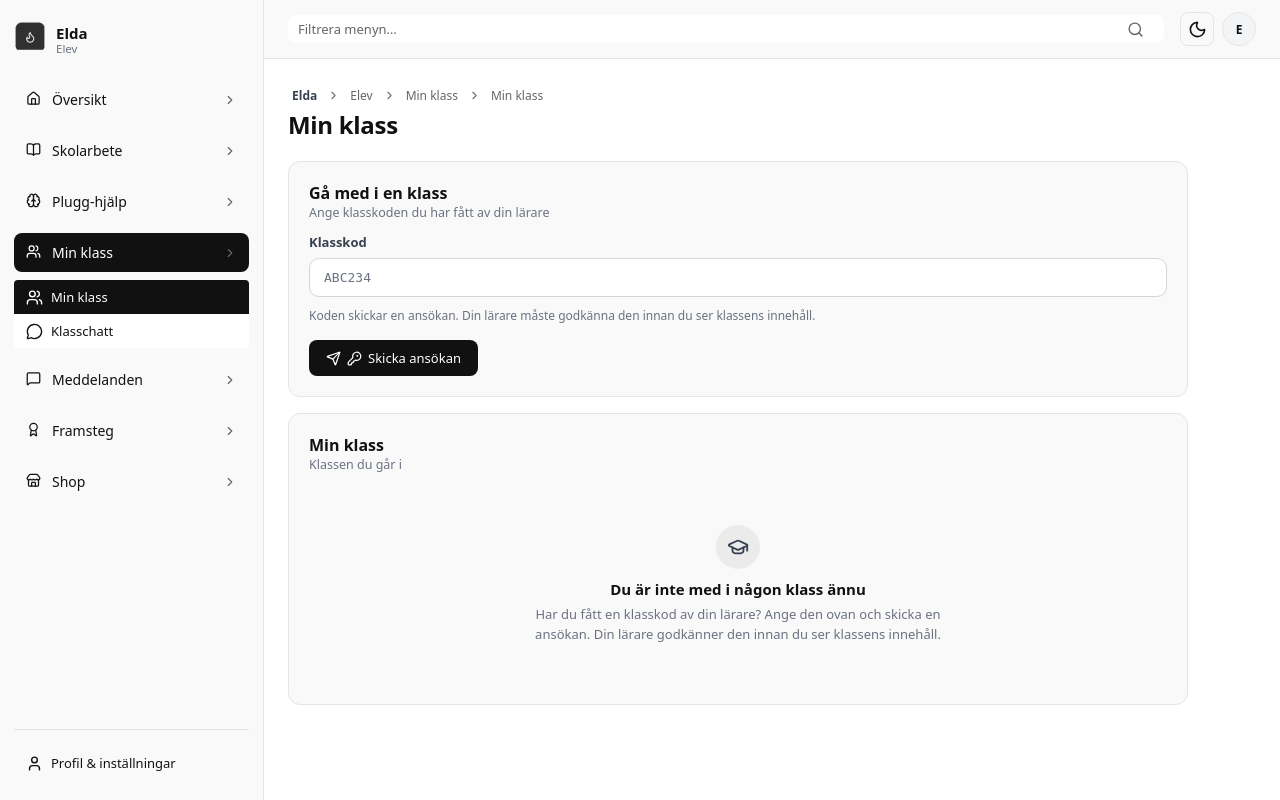
Test: klassansökan med klasskod › avvisar en klasskod med fel format utan att fråga servern
The width and height of the screenshot is (1280, 800).
Type "ABC" into the field labelled "Klasskod".
click(738, 278); type("ABC")  # box [309, 258, 1167, 297]
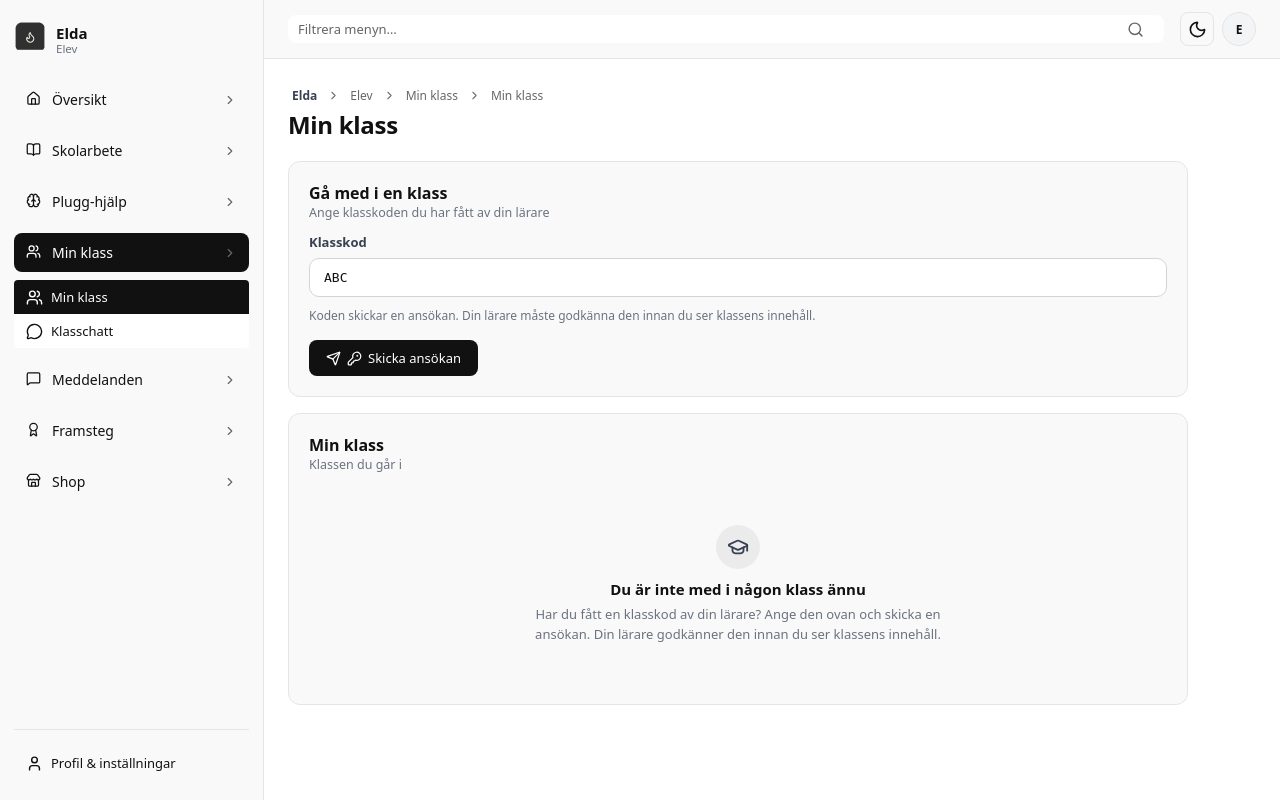
Click the button "Skicka ansökan".
click(394, 358)  # box [309, 340, 478, 376]
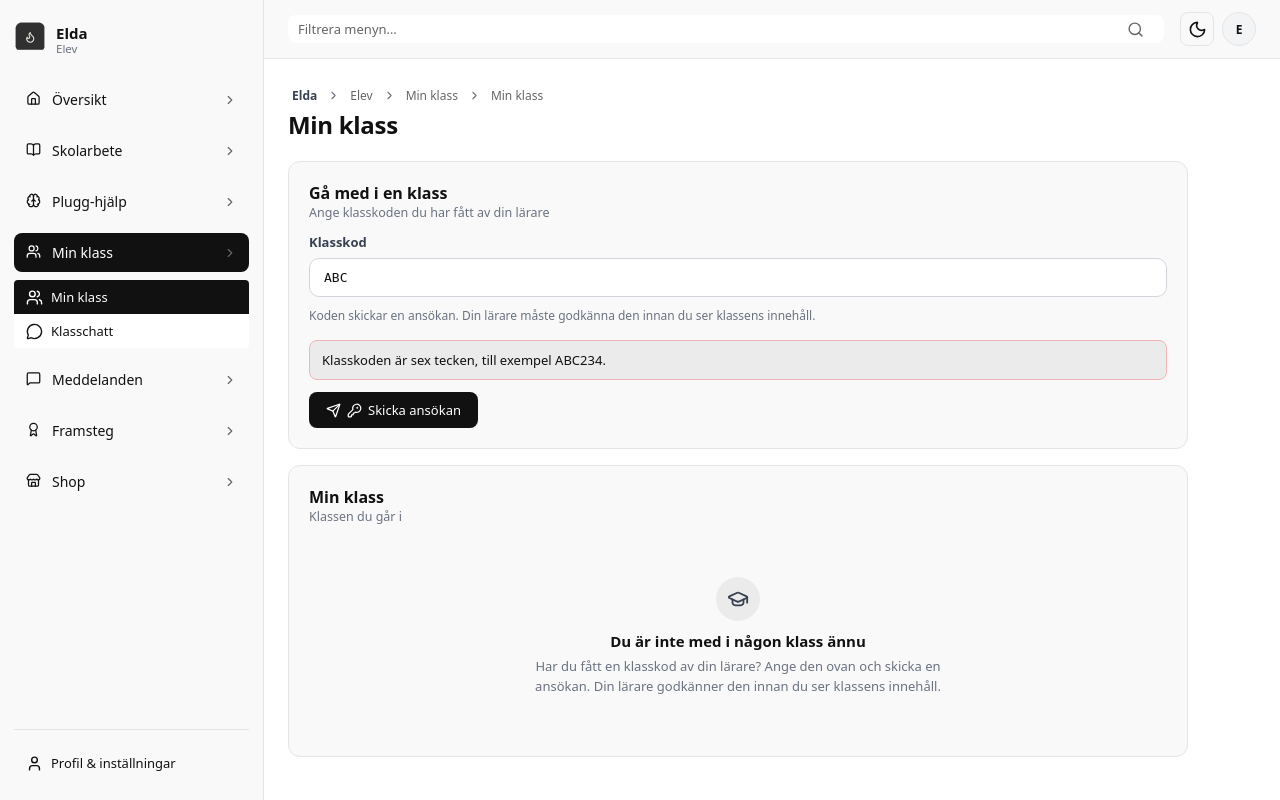
Now the text "Klasskoden är sex tecken, till exempel ABC234." is shown, box [309, 340, 1167, 380]
